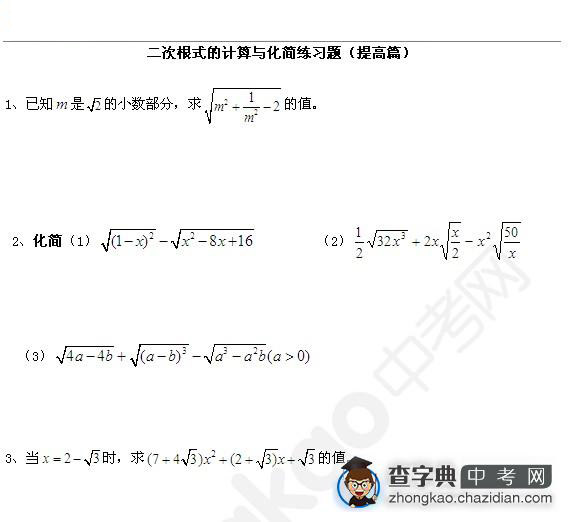cube: (400, 230, 408, 241), (181, 345, 188, 354), (223, 346, 229, 353)
division: (243, 104, 262, 110), (504, 240, 521, 246), (354, 240, 366, 246), (451, 239, 460, 245)
sqrt: (191, 86, 284, 123), (171, 225, 255, 251), (202, 341, 268, 366), (130, 341, 192, 365), (100, 227, 159, 252), (56, 342, 117, 366), (365, 227, 411, 248), (493, 219, 513, 266), (441, 221, 464, 260), (79, 442, 105, 471), (182, 438, 198, 470), (258, 450, 277, 470), (89, 96, 105, 114), (303, 446, 316, 467), (183, 444, 203, 456), (86, 446, 98, 459), (263, 446, 273, 456)
square: (222, 95, 230, 108), (209, 448, 217, 459), (486, 232, 494, 240), (251, 346, 259, 354), (252, 108, 259, 115), (149, 230, 154, 239), (190, 229, 194, 239)
